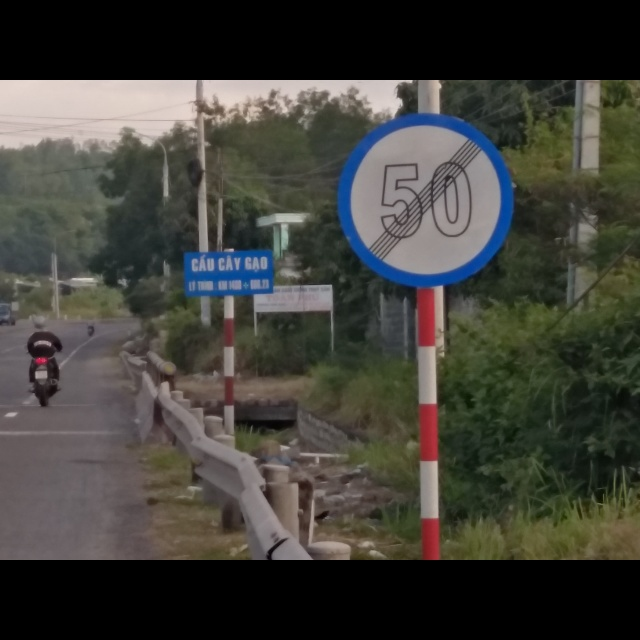Hết hạn chế tốc độ tối đa 50km/h: (337, 115, 512, 288)
